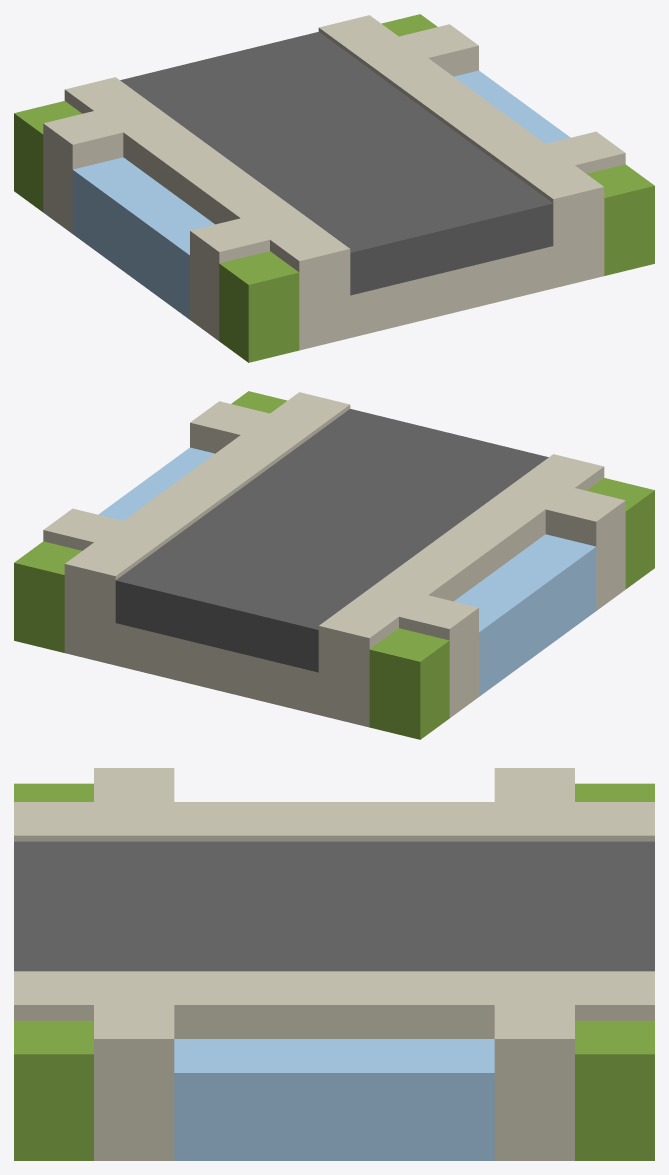
Rendered from tile194.fbx.
3 renders of one model, top to bottom at view 1: azimuth 30°, elevation 25°; view 2: azimuth 150°, elevation 25°; view 3: azimuth 270°, elevation 25°, orthographic. The views are drawn at different scales.
Visible parts, largest first — view 1: tile194; view 2: tile194; view 3: tile194.
Boxes of the visible parts, x1=… form: tile194: x1=14, y1=14, x2=654, y2=362; tile194: x1=14, y1=391, x2=654, y2=739; tile194: x1=14, y1=768, x2=654, y2=1160.
Bounding box in the file's own units: 10 × 2.1 × 10.
